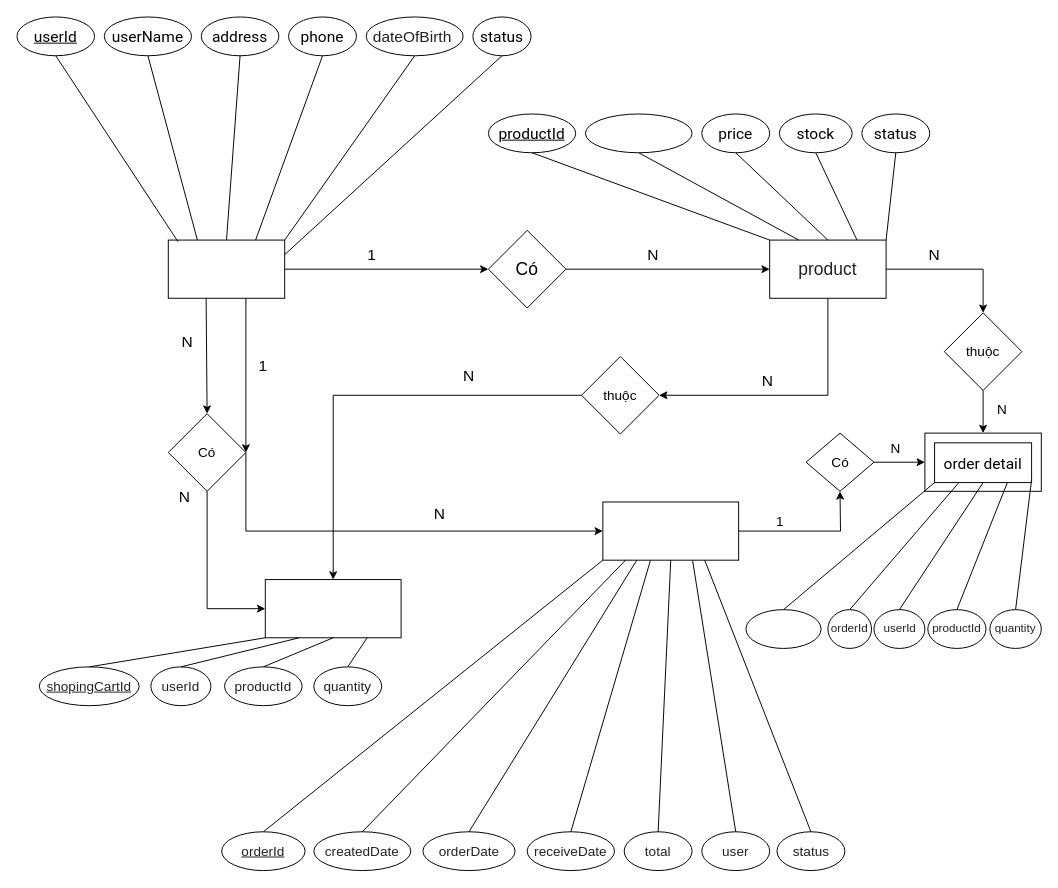
This 1058x888 diagram has some shape labels left out. Here are the shapes that lost their labels. From the top down, the centre of each, then its label:
[638,133]: productName
[226,268]: users
[670,530]: Order
[332,608]: Shoping Cart
[783,628]: orderDetailId
